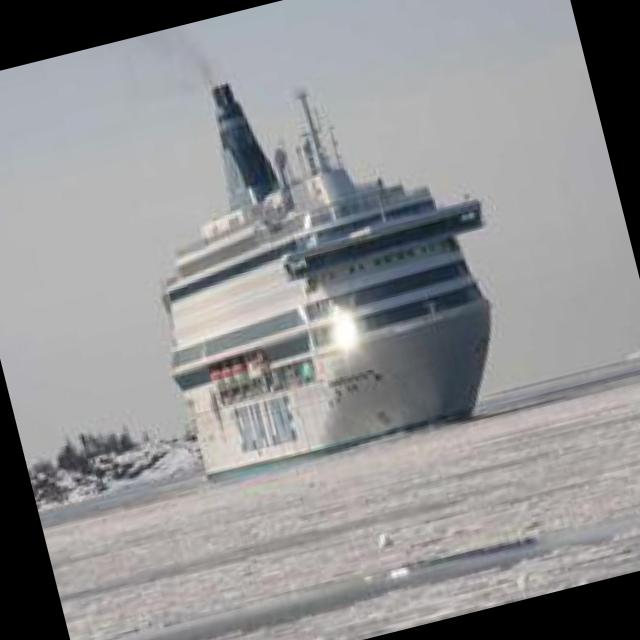boat: (136, 118, 538, 474)
